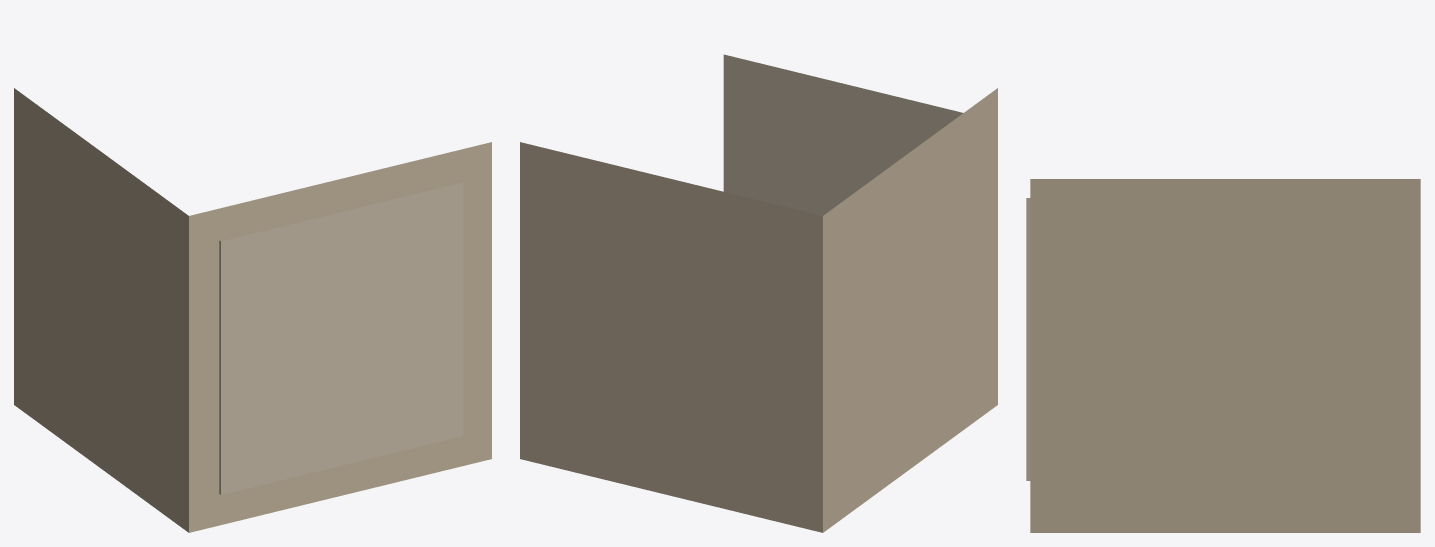
File: Wall-beige.glb
3 renders of one model, left to right at view 1: azimuth 30°, elevation 25°; view 2: azimuth 150°, elevation 25°; view 3: azimuth 270°, elevation 25°, orthographic. The views are drawn at different scales.
Parts seen in each view (by area): view 1: Wall; view 2: Wall; view 3: Wall.
Boxes of the visible parts, x1,y1,x2,y2 form: Wall: (14,88,491,532); Wall: (520,54,997,532); Wall: (1026,179,1420,532).
Size of the model in its own units: 1 by 1 by 1.01.
